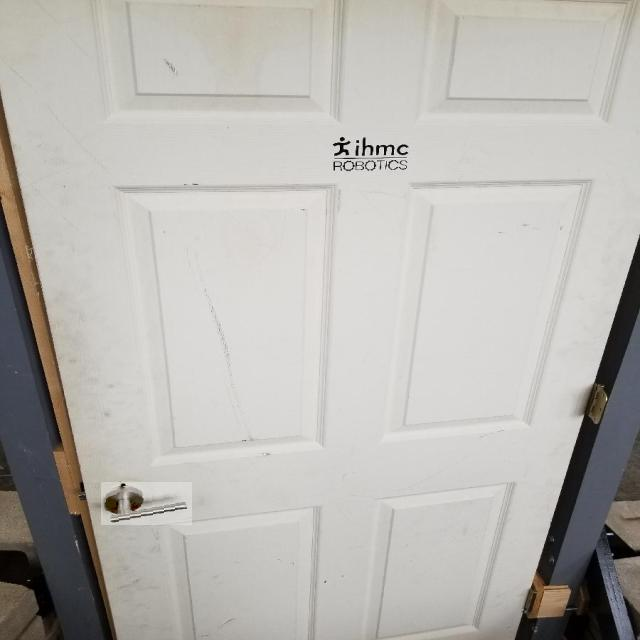doorhandle: (101, 482, 192, 525)
